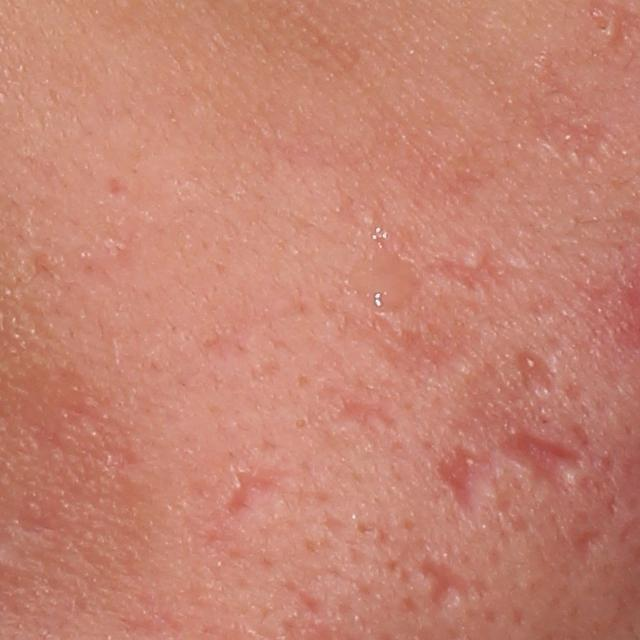atrophic_scar: (507, 50, 625, 168), (496, 427, 593, 488), (430, 445, 493, 527), (416, 553, 495, 610), (218, 461, 290, 521), (424, 253, 523, 296), (329, 394, 396, 428), (516, 349, 562, 395), (572, 525, 607, 565), (106, 174, 128, 201)
comedo: (292, 414, 309, 431)
hypertrophic_scar: (457, 245, 487, 266)
